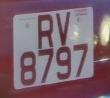7: (35, 43, 58, 88), (71, 39, 92, 85)
8: (18, 46, 39, 90)
9: (54, 44, 75, 84)
R: (33, 11, 56, 53)
V: (54, 9, 75, 50)
